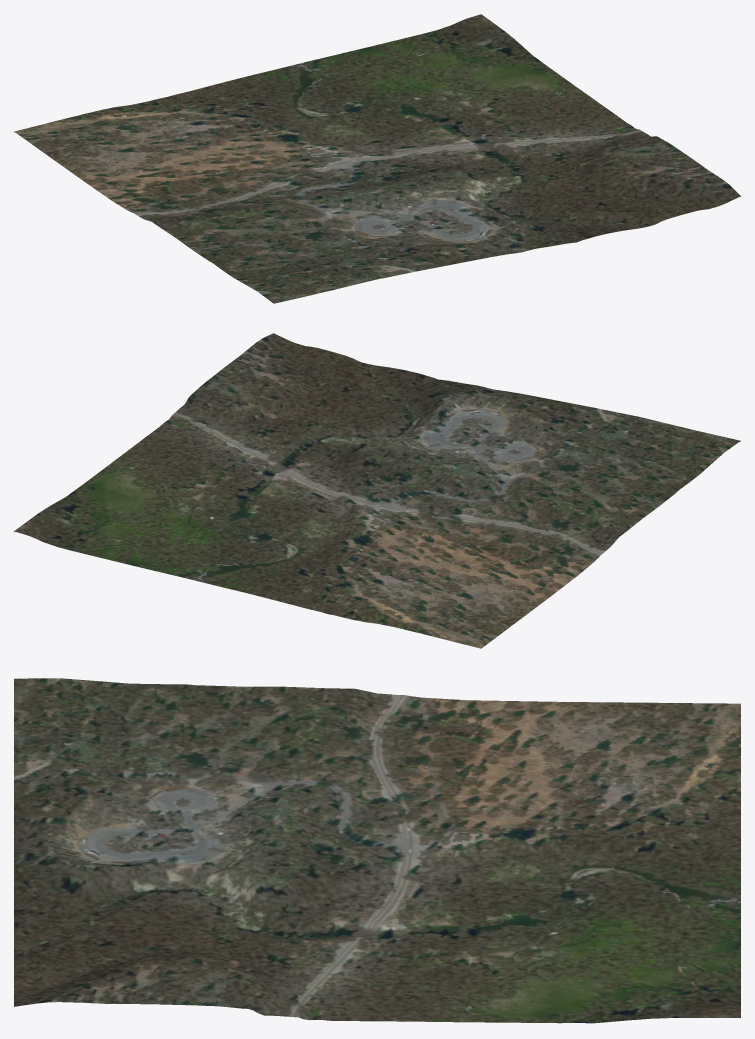
The picture shows the model from 3 angles, top to bottom: view 1: azimuth 30°, elevation 25°; view 2: azimuth 150°, elevation 25°; view 3: azimuth 270°, elevation 25°; orthographic projection. The views are drawn at different scales.
Bounding box in the file's own units: 500 × 22.95 × 481.
1 material, 1 textured.
